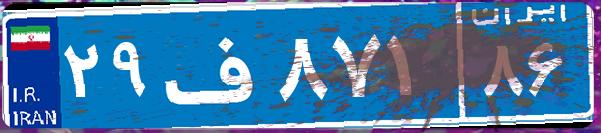1: (385, 28, 445, 110)
2: (57, 26, 110, 107)
6: (525, 38, 570, 115)
7: (330, 28, 385, 110)
8: (273, 28, 330, 110), (475, 38, 525, 113)
9: (110, 28, 158, 105)
ف: (158, 15, 273, 115)
